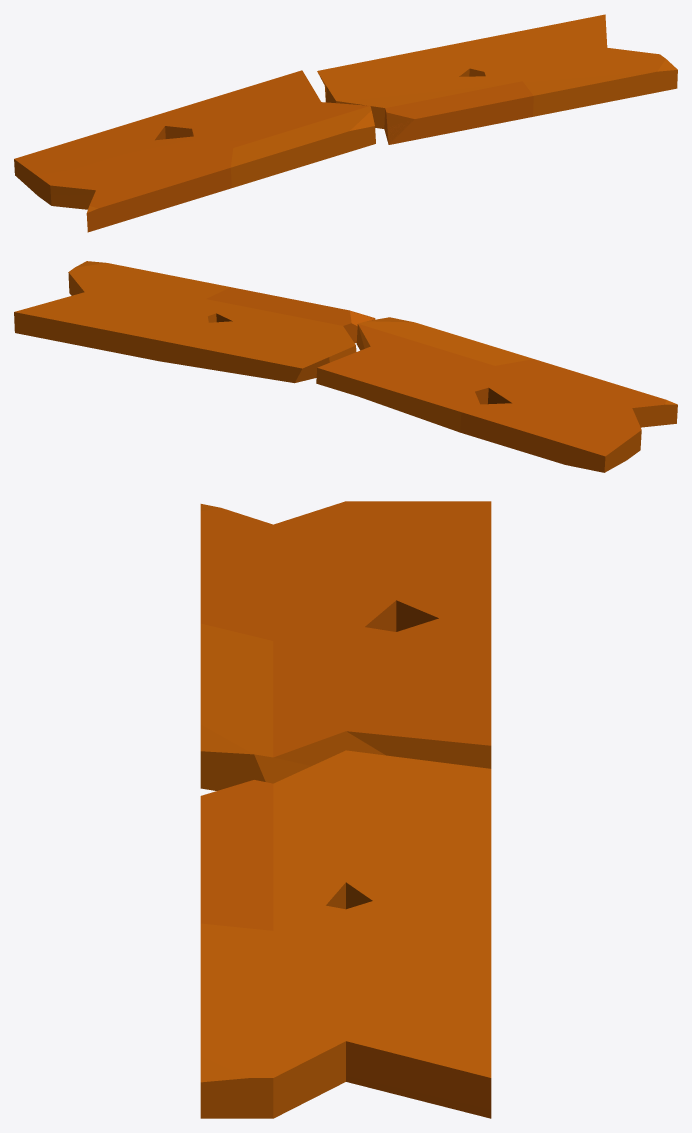
The model's file is Rotten and broken wood_16.fbx.
3 views of the same model, one above another, from view 1: azimuth 30°, elevation 25°; view 2: azimuth 150°, elevation 25°; view 3: azimuth 270°, elevation 25° (orthographic). The views are drawn at different scales.
Parts seen in each view (by area): view 1: Cube.119, Cube.115; view 2: Cube.119, Cube.115; view 3: Cube.115, Cube.119.
Boxes of the visible parts, bbox=[...] form: Cube.119: bbox=[14, 70, 375, 232]; Cube.115: bbox=[317, 14, 677, 144]; Cube.119: bbox=[316, 317, 677, 472]; Cube.115: bbox=[14, 261, 375, 383]; Cube.115: bbox=[200, 750, 491, 1118]; Cube.119: bbox=[200, 501, 491, 790].
Size of the model in its own units: 61.44 by 3.97 by 13.07.
